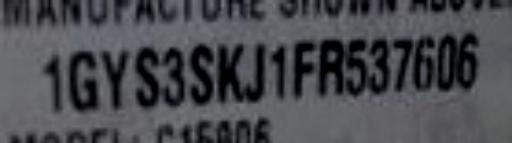letter: (129, 44, 165, 113), (96, 44, 132, 109), (66, 48, 102, 113), (214, 42, 246, 107), (316, 37, 350, 98), (188, 36, 216, 109), (456, 29, 486, 94), (290, 36, 320, 101), (158, 45, 188, 110), (430, 33, 460, 94), (364, 37, 394, 98), (342, 37, 372, 98), (242, 40, 272, 101), (412, 33, 438, 94), (390, 37, 416, 98), (40, 49, 64, 114), (266, 40, 290, 101)
